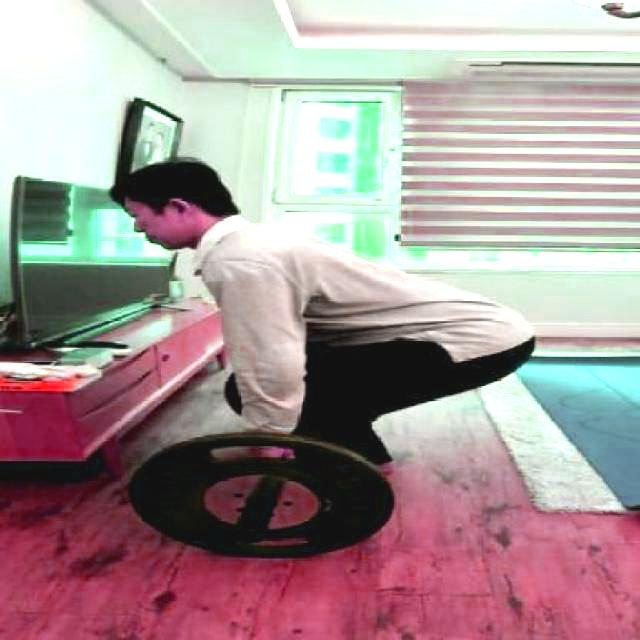barbell: (121, 425, 402, 572)
